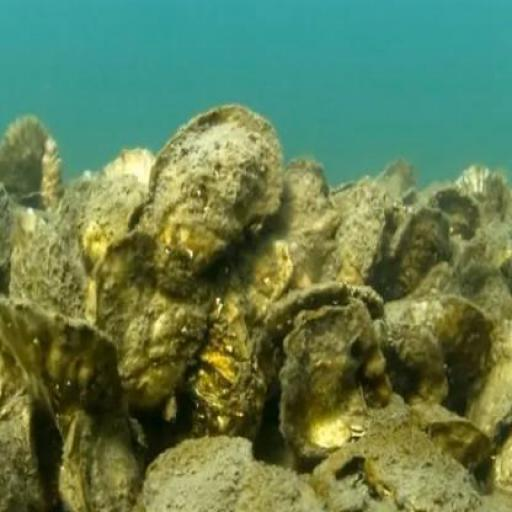Oyster-Closed: (11, 311, 142, 512), (151, 103, 281, 269), (248, 293, 387, 413), (282, 320, 395, 454), (1, 115, 52, 204)
